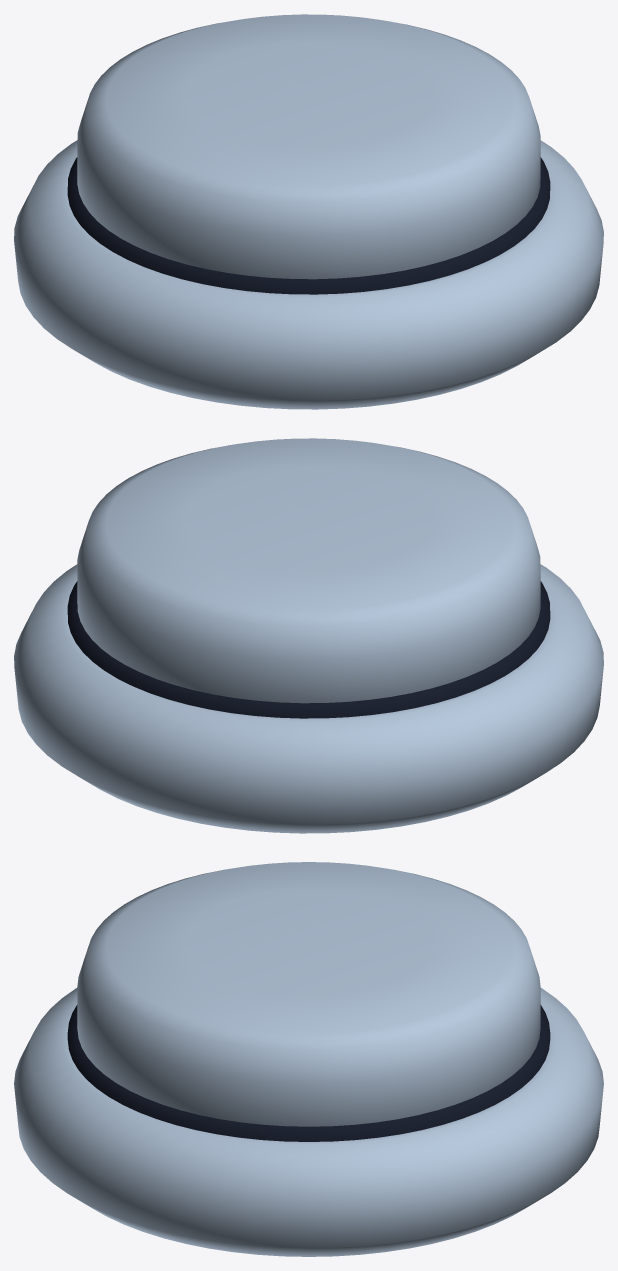
Rendered from midnight-button.glb.
3 views of the same model, one above another, from view 1: azimuth 30°, elevation 25°; view 2: azimuth 150°, elevation 25°; view 3: azimuth 270°, elevation 25° (orthographic).
Parts seen in each view (by area): view 1: Button_Cap, Button_Base; view 2: Button_Cap, Button_Base; view 3: Button_Cap, Button_Base.
Boxes of the visible parts, x1,y1,x2,y2 form: Button_Cap: [77, 14, 540, 279]; Button_Base: [14, 140, 603, 409]; Button_Cap: [77, 438, 540, 703]; Button_Base: [14, 564, 603, 833]; Button_Cap: [77, 862, 540, 1126]; Button_Base: [14, 988, 603, 1256].
Size of the model in its own units: 0.428 by 0.163 by 0.428.
